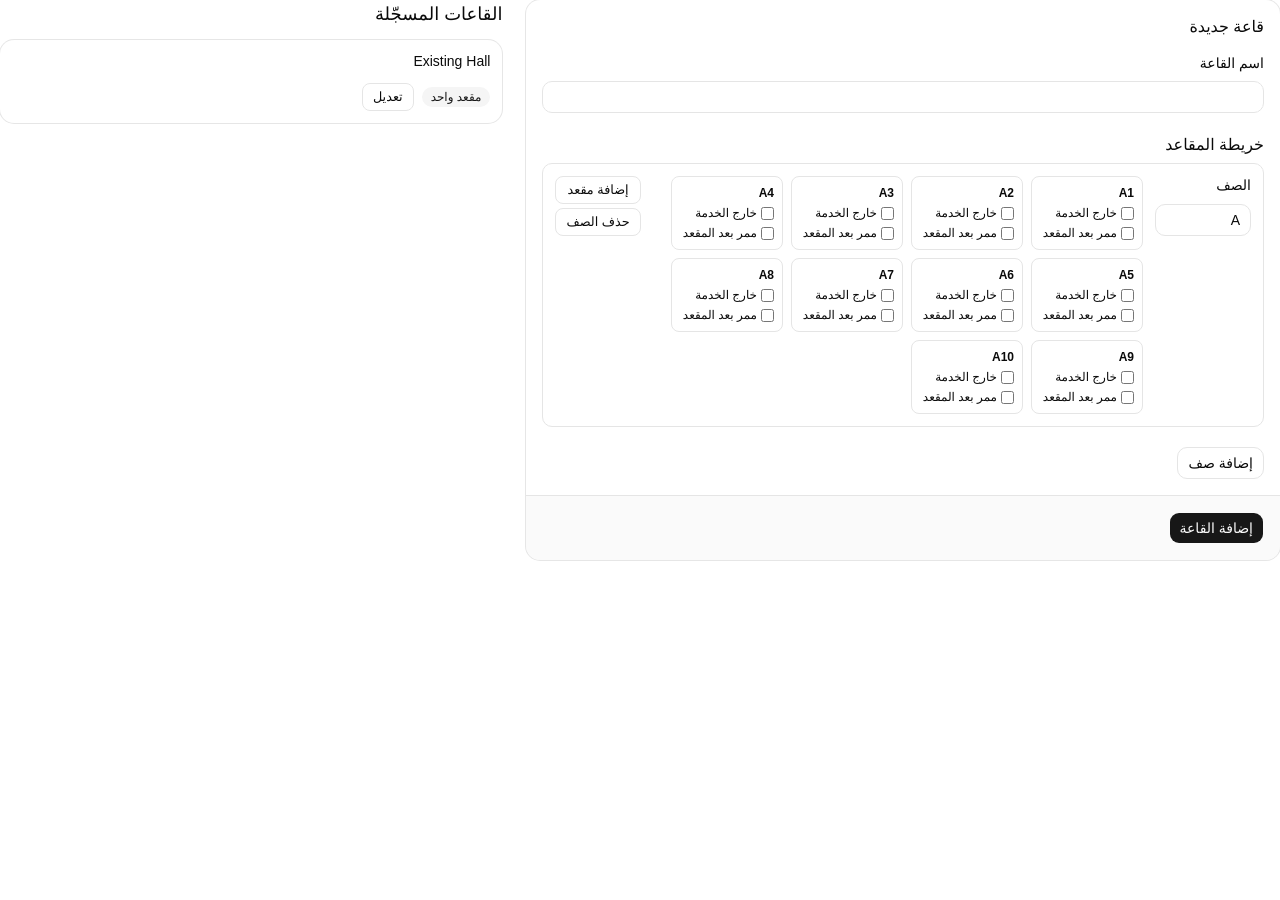
Test: AuditoriumAdmin seat-map editor › adds a row with the next label and removes it again
Later steps or results of the test are not shown.
Type "Main Hall" into the field labelled "اسم القاعة" at (903, 97), box [542,81,1264,113]
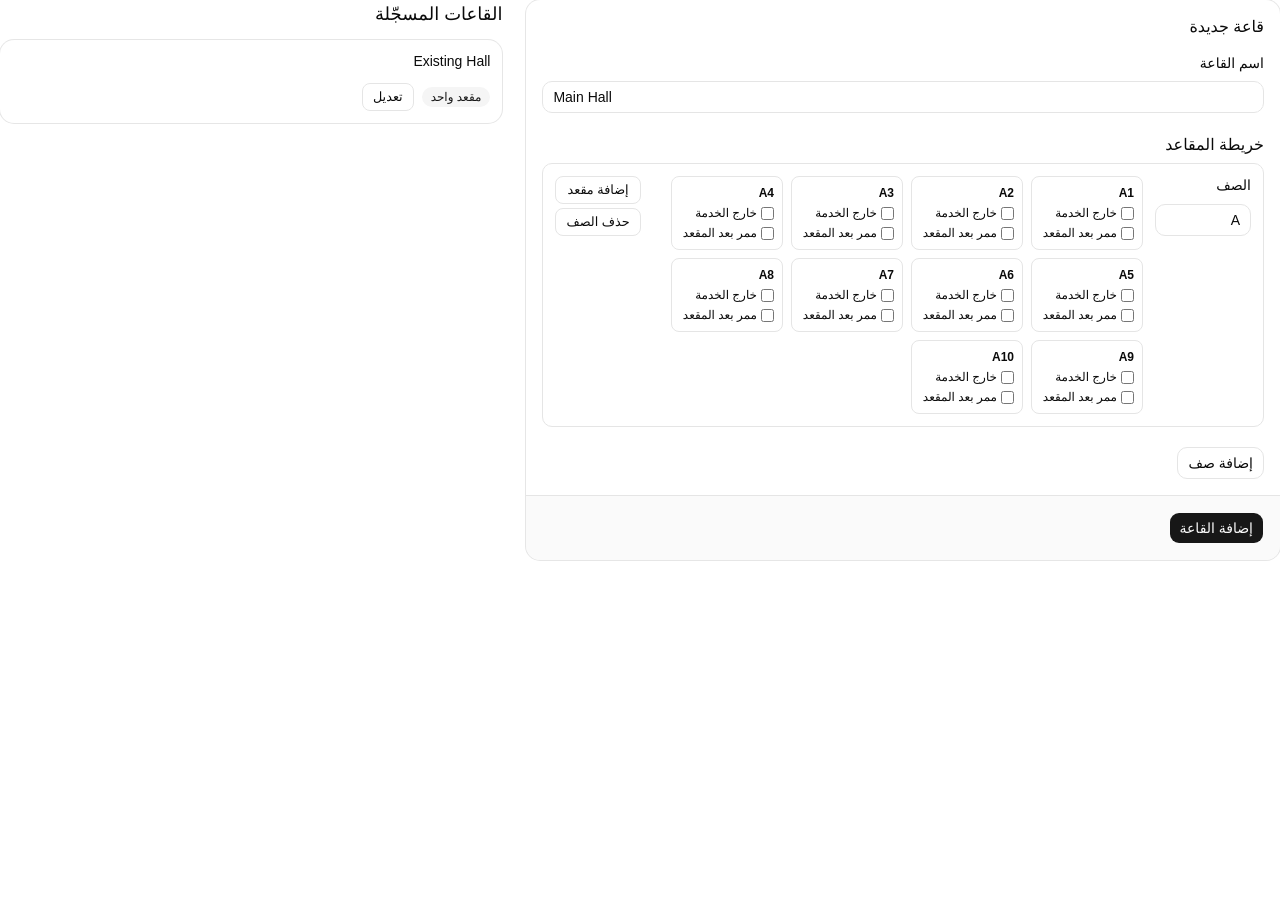
Click the button "إضافة صف" at (1221, 463), box [1178,447,1264,479]
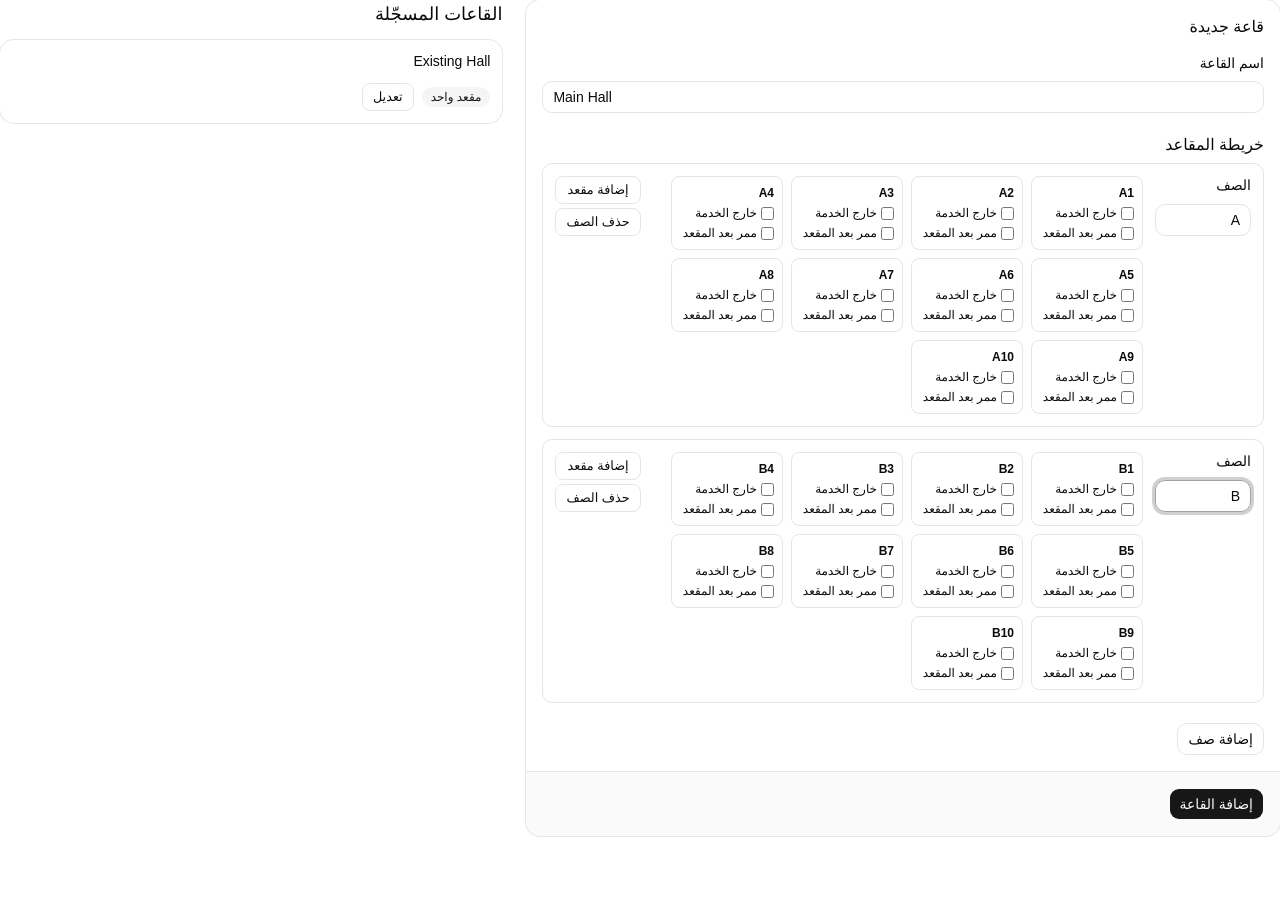
Result: the text "B1" is shown at [1119,462,1134,476]
